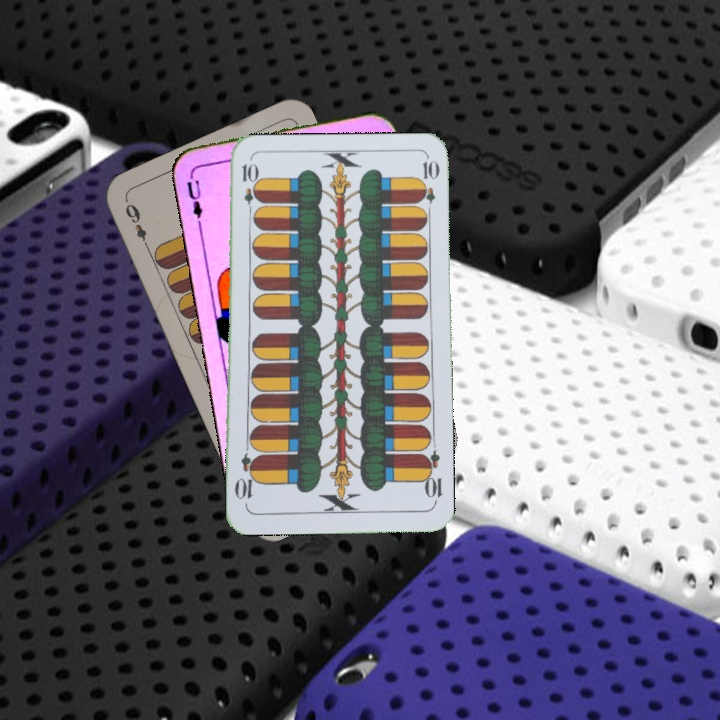E10: (418, 447, 444, 506), (238, 159, 257, 218)
E9: (121, 199, 153, 253)
EU: (183, 168, 210, 227)
